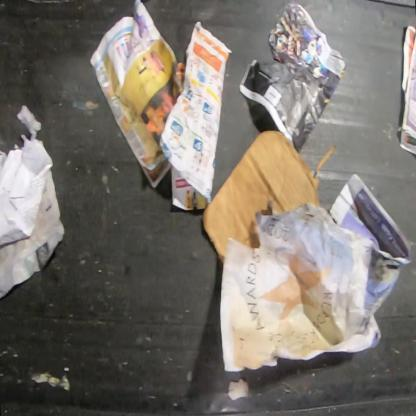cardboard: (202, 130, 335, 263)
